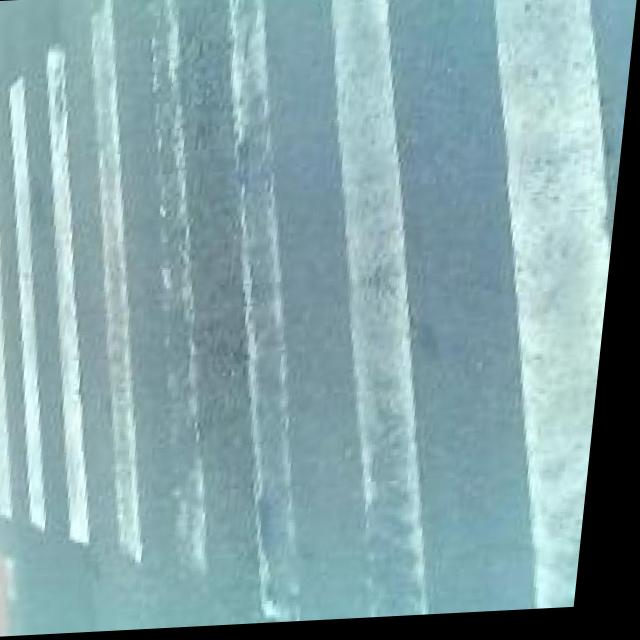zebra: (0, 0, 640, 503)
